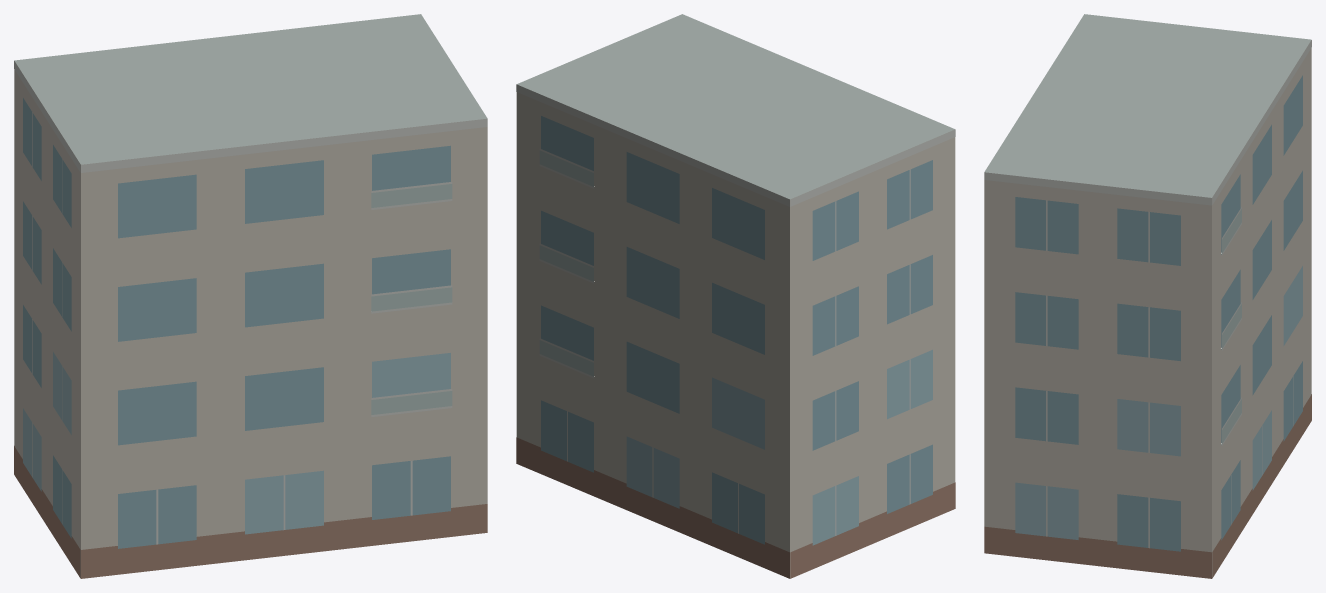
File: residential-d2a246c7-c9d4-4005-aa35-d498c55c90b0.glb
3 views of the same model, side by side, from view 1: azimuth 30°, elevation 25°; view 2: azimuth 150°, elevation 25°; view 3: azimuth 270°, elevation 25° (orthographic). The views are drawn at different scales.
Parts seen in each view (by area): view 1: residential-d2a246c7-c9d4-4005-aa35-d498c55c90b0.tmp; view 2: residential-d2a246c7-c9d4-4005-aa35-d498c55c90b0.tmp; view 3: residential-d2a246c7-c9d4-4005-aa35-d498c55c90b0.tmp.
Part boxes in pixels (x1,y1,x2,y2): residential-d2a246c7-c9d4-4005-aa35-d498c55c90b0.tmp: (14, 14, 487, 578); residential-d2a246c7-c9d4-4005-aa35-d498c55c90b0.tmp: (516, 14, 955, 578); residential-d2a246c7-c9d4-4005-aa35-d498c55c90b0.tmp: (984, 14, 1311, 578).
Size of the model in its own units: 12.64 by 12.2 by 9.52.
